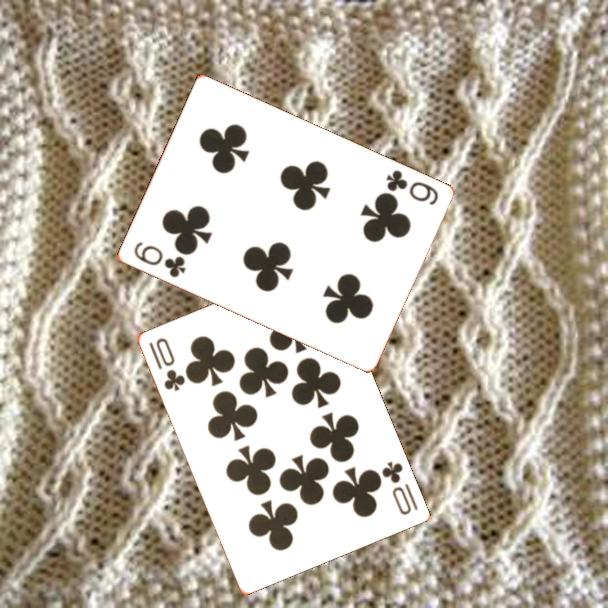c06: (130, 238, 189, 281), (382, 167, 441, 208)
c10: (377, 457, 421, 518), (145, 334, 188, 394)
